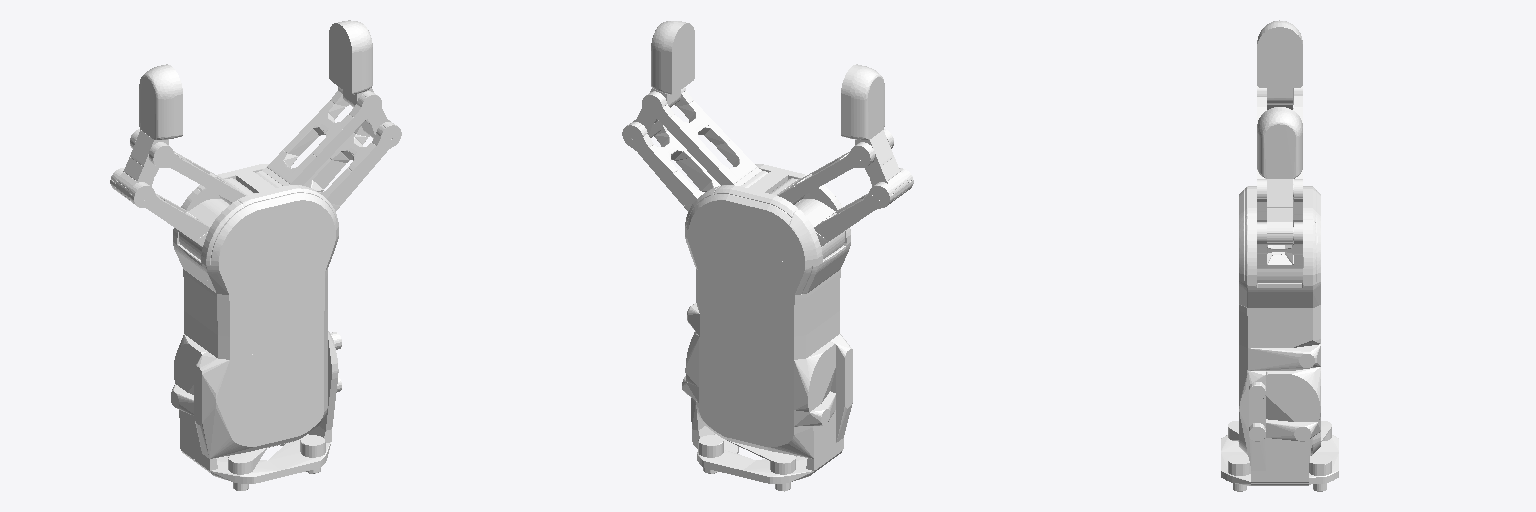
robot.urdf — rg2:
<?xml version="1.0" encoding="utf-8"?>
<!-- =================================================================================== -->
<!-- |    Author: [author]                                                           | -->
<!-- |    [email redacted]                                                          | -->
<!-- |    urdf for the RG2 gripper.                                                    | -->
<!-- |    meshes extracted from https://github.com/sharathrjtr/ur10_rg2_ros/blob/master/robot_descriptions/meshes/rg2_gripper/dae_rg2_.dae |-->
<!-- =================================================================================== -->
<robot name="rg2">
  <link name="palm">
    <visual>
      <origin rpy="0 0 0" xyz="0.0 0.0 0.0"/>
      <geometry>
        <mesh filename="meshes/palm_vhacd.obj" scale="0.001 0.001 0.001"/>
      </geometry>
      <material name="White">
        <color rgba="1.0 1.0 1.0 1.0"/>
      </material>
    </visual>
    <collision>
      <origin rpy="0 0 0" xyz="0.0 0.0 0.0"/>
      <geometry>
        <mesh filename="meshes/palm_vhacd.obj" scale="0.001 0.001 0.001"/>
      </geometry>
    </collision>
    <inertial>
      <mass value="1"/>
      <inertia ixx="1" ixy="0.0" ixz="0.0" iyy="1" iyz="0.0" izz="1"/>
    </inertial>
  </link>

  <joint name="palm_left_inner_joint" type="revolute">
    <origin rpy="0 -0.43 0" xyz="-0.0075 0.0 0.0715"/>
    <axis xyz="0 1 0"/>
    <limit effort="1000" lower="0" upper="0.86" velocity="0.2"/>
    <parent link="palm"/>
    <child link="left_inner"/>
  </joint>
  <link name="left_inner">
    <visual>
      <origin rpy="0 0 0" xyz="0.0075 0.0 -0.0715"/>
      <geometry>
        <mesh filename="meshes/left_inner_vhacd.obj" scale="0.001 0.001 0.001"/>
      </geometry>
      <material name="White">
        <color rgba="1.0 1.0 1.0 1.0"/>
      </material>
    </visual>
    <collision>
      <origin rpy="0 0 0" xyz="0.0075 0.0 -0.0715"/>
      <geometry>
        <mesh filename="meshes/left_inner_vhacd.obj" scale="0.001 0.001 0.001"/>
      </geometry>
    </collision>
    <inertial>
      <mass value="1"/>
      <inertia ixx="1" ixy="0.0" ixz="0.0" iyy="1" iyz="0.0" izz="1"/>
    </inertial>
  </link>
  
  <joint name="palm_left_outer_joint" type="revolute">
    <origin rpy="0 -0.43 0" xyz="-0.017 0.0 0.055"/>
    <axis xyz="0 1 0"/>
    <limit effort="1000" lower="0" upper="0.86" velocity="0.2"/>
    <parent link="palm"/>
    <child link="left_outer"/>
  </joint>
  <link name="left_outer">
    <visual>
      <origin rpy="0 0 0" xyz="0.017 0.0 -0.055"/>
      <geometry>
        <mesh filename="meshes/left_outer_vhacd.obj" scale="0.001 0.001 0.001"/>
      </geometry>
      <material name="White">
        <color rgba="1.0 1.0 1.0 1.0"/>
      </material>
    </visual>
    <collision>
      <origin rpy="0 0 0" xyz="0.017 0.0 -0.055"/>
      <geometry>
        <mesh filename="meshes/left_outer_vhacd.obj" scale="0.001 0.001 0.001"/>
      </geometry>
    </collision>
    <inertial>
      <mass value="1"/>
      <inertia ixx="1" ixy="0.0" ixz="0.0" iyy="1" iyz="0.0" izz="1"/>
    </inertial>
  </link>

  <joint name="left_finger_joint" type="revolute">
    <origin rpy="0 0.43 0" xyz="-0.025592 0.0 0.048677"/>
    <axis xyz="0 1 0"/>
    <limit effort="1000" lower="-0.86" upper="0" velocity="0.2"/>
    <parent link="left_outer"/>
    <child link="left_finger"/>
  </joint>
  <link name="left_finger">
    <visual>
      <origin rpy="0 0 0" xyz="0.0426 0.0 -0.1037"/>
      <geometry>
        <mesh filename="meshes/left_finger_vhacd.obj" scale="0.001 0.001 0.001"/>
      </geometry>
      <material name="white">
        <color rgba="1.0 1.0 1.0 1.0"/>
      </material>
    </visual>
    <collision>
      <origin rpy="0 0 0" xyz="0.0426 0.0 -0.1037"/>
      <geometry>
        <mesh filename="meshes/left_finger_vhacd.obj" scale="0.001 0.001 0.001"/>
      </geometry>
    </collision>
    <inertial>
      <mass value="1"/>
      <inertia ixx="1" ixy="0.0" ixz="0.0" iyy="1" iyz="0.0" izz="1"/>
    </inertial>
  </link>

  <joint name="palm_right_inner_joint" type="revolute">
    <origin rpy="0 0.43 0" xyz="0.0075 0.0 0.0715"/>
    <axis xyz="0 1 0"/>
    <limit effort="1000" lower="-0.86" upper="0" velocity="0.2"/>
    <parent link="palm"/>
    <child link="right_inner"/>
  </joint>
  <link name="right_inner">
    <visual>
      <origin rpy="0 0 0" xyz="-0.0075 0.0 -0.0715"/>
      <geometry>
        <mesh filename="meshes/right_inner_vhacd.obj" scale="0.001 0.001 0.001"/>
      </geometry>
      <material name="White">
        <color rgba="1.0 1.0 1.0 1.0"/>
      </material>
    </visual>
    <collision>
      <origin rpy="0 0 0" xyz="-0.0075 0.0 -0.0715"/>
      <geometry>
        <mesh filename="meshes/right_inner_vhacd.obj" scale="0.001 0.001 0.001"/>
      </geometry>
    </collision>
    <inertial>
      <mass value="1"/>
      <inertia ixx="1" ixy="0.0" ixz="0.0" iyy="1" iyz="0.0" izz="1"/>
    </inertial>
  </link>
  
  <joint name="palm_right_outer_joint" type="revolute">
    <origin rpy="0 0.43 0" xyz="0.017 0.0 0.055"/>
    <axis xyz="0 1 0"/>
    <limit effort="1000" lower="-0.86" upper="0" velocity="0.2"/>
    <parent link="palm"/>
    <child link="right_outer"/>
  </joint>
  <link name="right_outer">
    <visual>
      <origin rpy="0 0 0" xyz="-0.017 0.0 -0.055"/>
      <geometry>
        <mesh filename="meshes/right_outer_vhacd.obj" scale="0.001 0.001 0.001"/>
      </geometry>
      <material name="White">
        <color rgba="1.0 1.0 1.0 1.0"/>
      </material>
    </visual>
    <collision>
      <origin rpy="0 0 0" xyz="-0.017 0.0 -0.055"/>
      <geometry>
        <mesh filename="meshes/right_outer_vhacd.obj" scale="0.001 0.001 0.001"/>
      </geometry>
    </collision>
    <inertial>
      <mass value="1"/>
      <inertia ixx="1" ixy="0.0" ixz="0.0" iyy="1" iyz="0.0" izz="1"/>
    </inertial>
  </link>

  <joint name="right_finger_joint" type="revolute">
    <origin rpy="0 -0.43 0" xyz="0.025592 0.0 0.048677"/>
    <axis xyz="0 1 0"/>
    <limit effort="1000" lower="0" upper="0.86" velocity="0.2"/>
    <parent link="right_outer"/>
    <child link="right_finger"/>
  </joint>
  <link name="right_finger">
    <visual>
      <origin rpy="0 0 0" xyz="-0.0426 0.0 -0.1037"/>
      <geometry>
        <mesh filename="meshes/right_finger_vhacd.obj" scale="0.001 0.001 0.001"/>
      </geometry>
      <material name="white">
        <color rgba="1.0 1.0 1.0 1.0"/>
      </material>
    </visual>
    <collision>
      <origin rpy="0 0 0" xyz="-0.0426 0.0 -0.1037"/>
      <geometry>
        <mesh filename="meshes/right_finger_vhacd.obj" scale="0.001 0.001 0.001"/>
      </geometry>
    </collision>
    <inertial>
      <mass value="1"/>
      <inertia ixx="1" ixy="0.0" ixz="0.0" iyy="1" iyz="0.0" izz="1"/>
    </inertial>
  </link>
</robot>

--- Facts derived from the render (not from the file) ---
The picture shows the robot from 3 angles, left to right: view 1: azimuth 30°, elevation 25°; view 2: azimuth 150°, elevation 25°; view 3: azimuth 270°, elevation 25°; orthographic projection.
Robot: rg2 — 7 links, 6 joints (6 revolute); root link palm; default pose: every joint at zero.
Visible links, largest first — view 1: palm, left_finger, right_inner, right_finger, right_outer, left_outer, left_inner; view 2: palm, left_finger, right_inner, right_finger, right_outer, left_outer, left_inner; view 3: palm, right_finger, left_finger, right_outer, right_inner, left_inner.
Link boxes in pixels (x1,y1,x2,y2): palm: (171, 164, 341, 490); left_finger: (115, 64, 182, 200); right_inner: (256, 87, 381, 187); right_finger: (329, 20, 392, 139); right_outer: (303, 122, 401, 211); left_outer: (110, 168, 228, 259); left_inner: (130, 129, 254, 204); palm: (682, 164, 852, 491); left_finger: (841, 64, 908, 200); right_inner: (642, 87, 767, 187); right_finger: (631, 21, 694, 139); right_outer: (622, 122, 720, 211); left_outer: (795, 168, 913, 258); left_inner: (769, 129, 893, 204); palm: (1221, 186, 1338, 491); right_finger: (1257, 107, 1302, 244); left_finger: (1257, 20, 1302, 109); right_outer: (1257, 222, 1303, 282); right_inner: (1257, 179, 1302, 226); left_inner: (1257, 86, 1302, 183).
Size in the robot's own frame: 0.1314 by 0.0523 by 0.1965 metres.
Meshes: 7 distinct files referenced, 7 mesh visuals loaded (7 OBJ).
